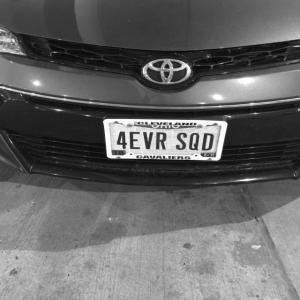Plate: (103, 119, 227, 161)
